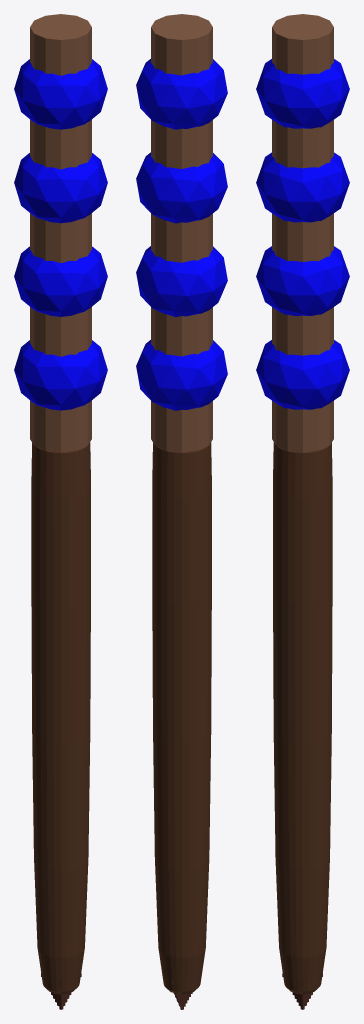
File: Wand 34.glb
3 renders of one model, left to right at view 1: azimuth 90°, elevation 25°; view 2: azimuth 150°, elevation 25°; view 3: azimuth 270°, elevation 25°, orthographic.
Visible parts, largest first — view 1: GeneratedWand; view 2: GeneratedWand; view 3: GeneratedWand.
Part boxes in pixels (x1,y1,x2,y2): GeneratedWand: (14,14,107,1009); GeneratedWand: (136,14,227,1009); GeneratedWand: (256,14,349,1009).
Size of the model in its own units: 0.0407 by 0.4946 by 0.0428.
